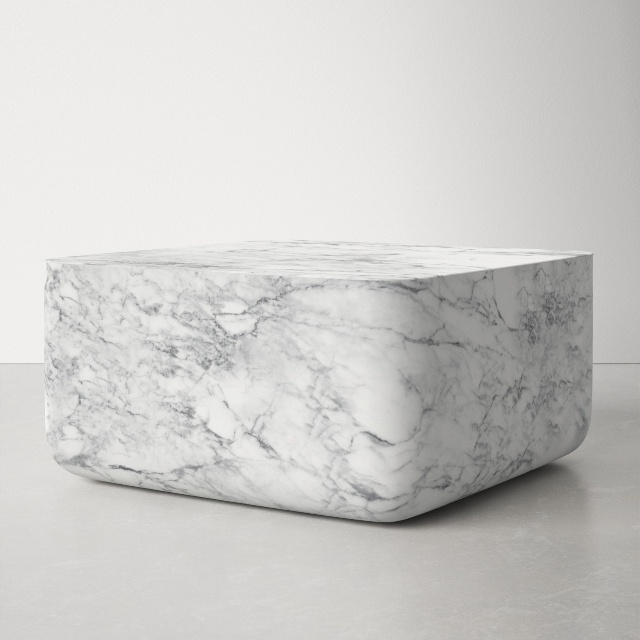obstacle: (45, 242, 592, 521)
